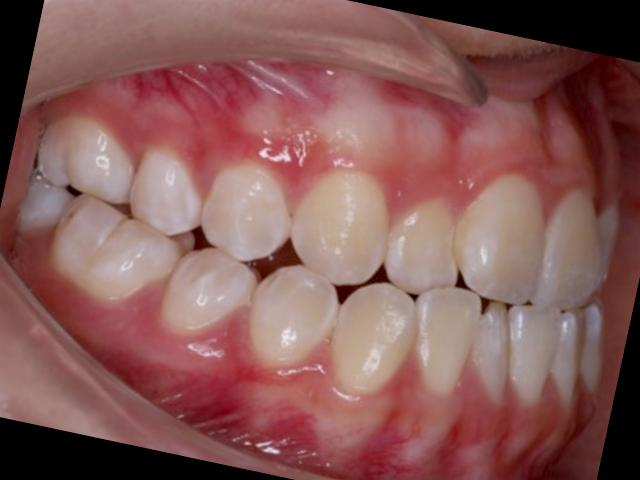canine class I: (230, 137, 450, 420)
molar class III 1/2: (8, 109, 197, 330)
